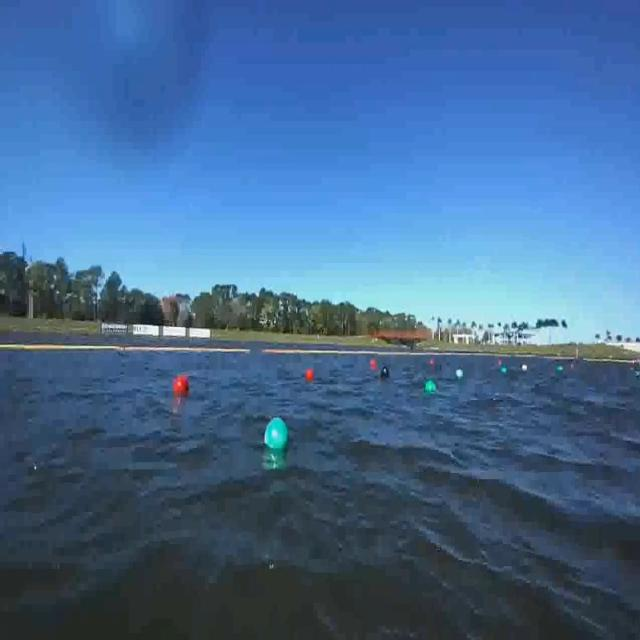green-buoy: (266, 420, 291, 452)
red-buoy: (176, 374, 192, 392)
